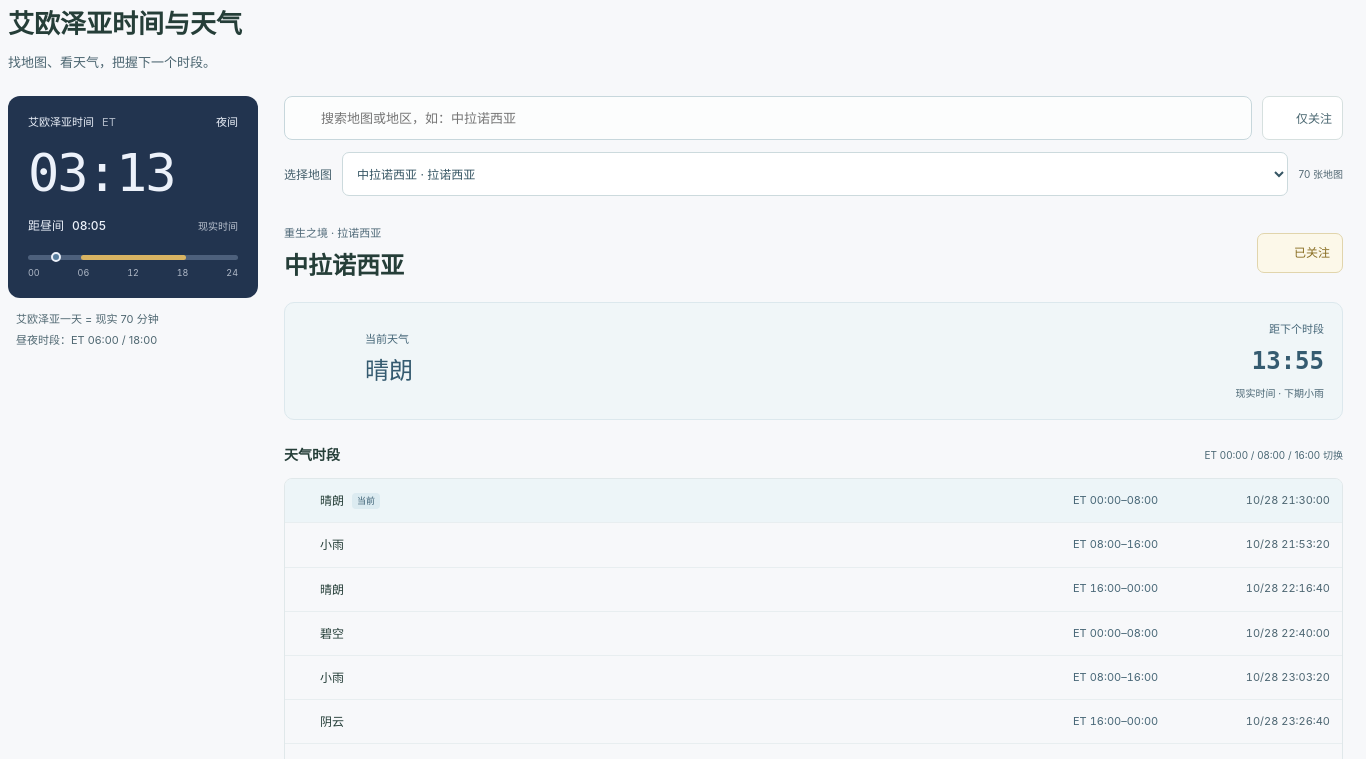
Test: renders the selected map, nine periods, source coverage and a Chinese searchable selector
Check: the heading "中拉诺西亚" is shown, box [284,247,404,286]
Type "黄金港" into the search field labelled "搜索地图" at (768, 118), box [284,96,1252,140]
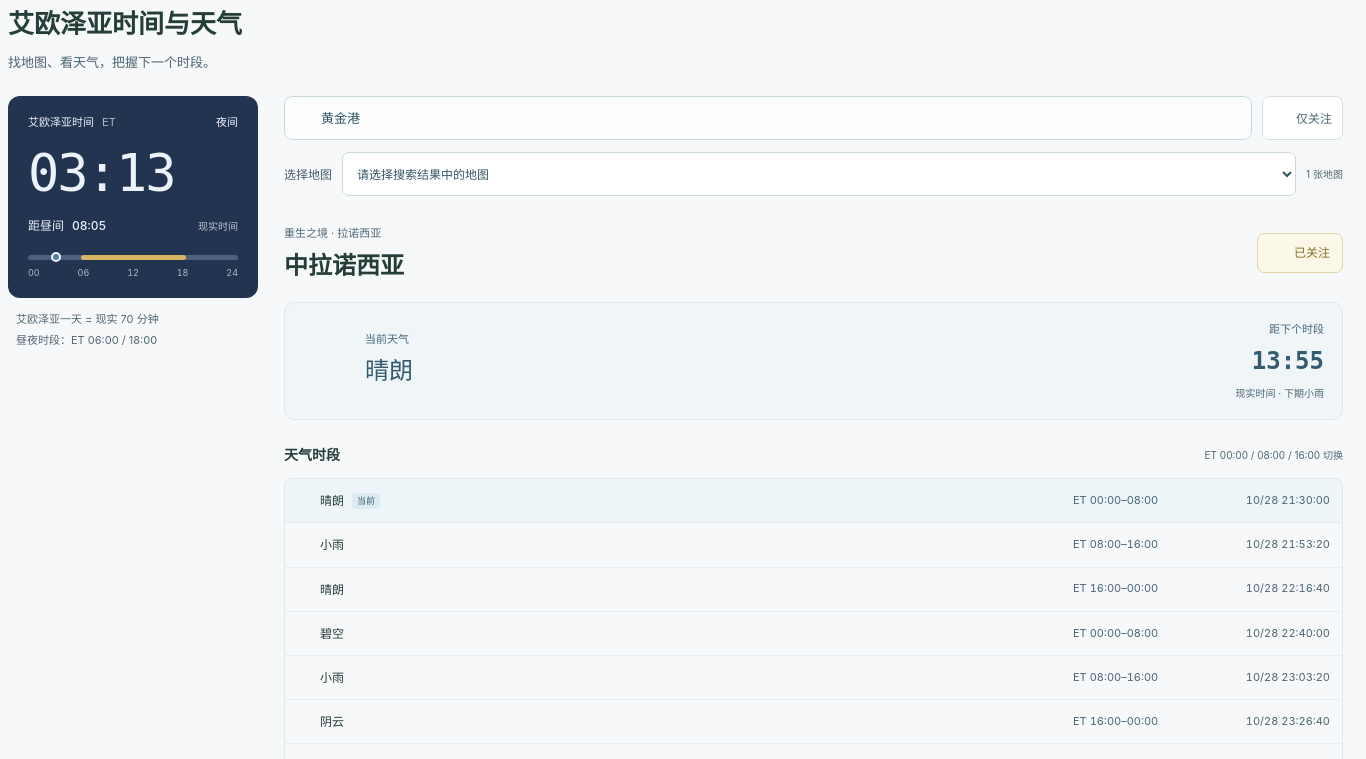
Select "黄金港 · 远东之国" in the dropdown labelled "选择地图 1 张地图" at (819, 174), box [342,152,1296,196]
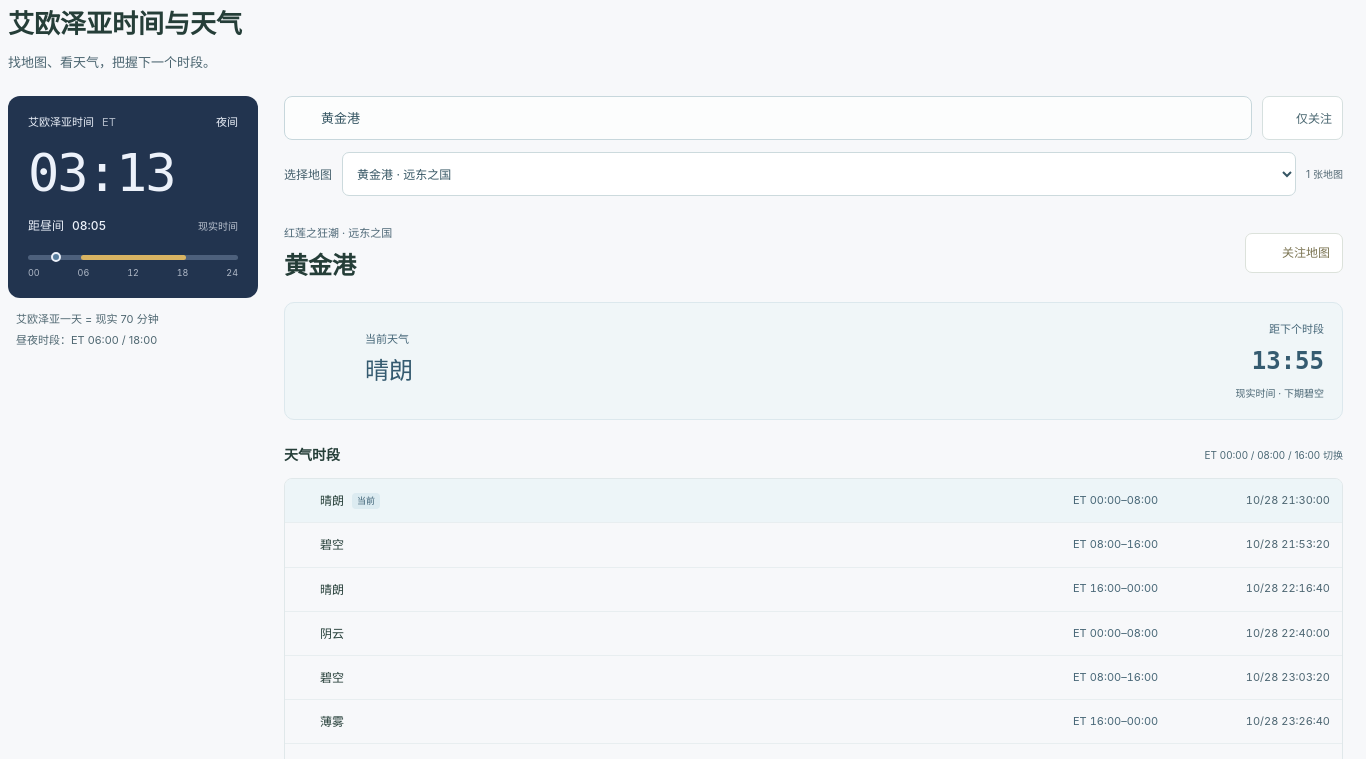
Check: the heading "黄金港" is shown, box [284,253,356,279]
